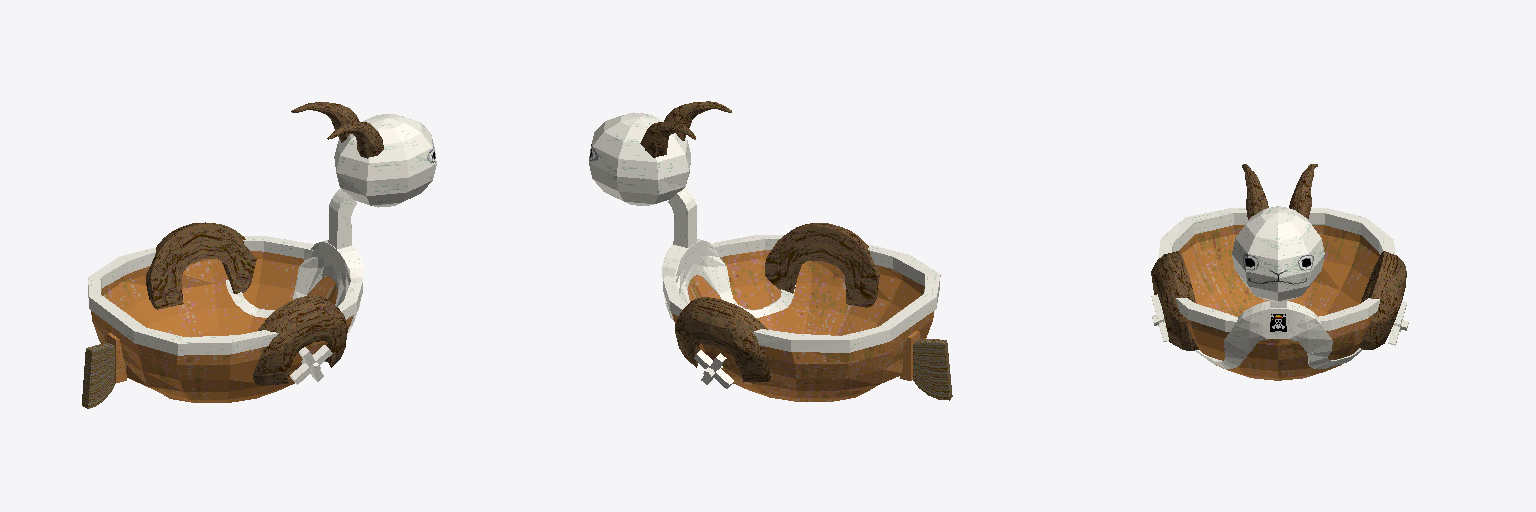
3 renders of one model, left to right at view 1: azimuth 30°, elevation 25°; view 2: azimuth 150°, elevation 25°; view 3: azimuth 270°, elevation 25°, orthographic.
Parts seen in each view (by area): view 1: Sphere.001, Sphere, Cube.003, Cylinder.011_Cylinder.013, Cube.004_Cube.005, Cube_Cube.001, Cube.001_Cube.002, Cylinder, Cylinder.013_Cylinder.015, Cone.001, Cone, Cylinder.012_Cylinder.014; view 2: Sphere.001, Sphere, Cube.004_Cube.005, Cylinder.011_Cylinder.013, Cube.003, Cube_Cube.001, Cube.001_Cube.002, Cylinder, Cone, Cylinder.012_Cylinder.014, Cone.001, Cylinder.013_Cylinder.015; view 3: Sphere.001, Sphere, Cube_Cube.001, Cylinder.011_Cylinder.013, Cube.003, Cube.004_Cube.005, Cylinder.012_Cylinder.014, Cylinder.013_Cylinder.015, Cone, Cone.001.
Part boxes in pixels (x1,y1,x2,y2): Sphere.001: (91,251,353,402); Sphere: (334,114,436,207); Cube.003: (146,222,256,309); Cylinder.011_Cylinder.013: (88,248,278,355); Cube.004_Cube.005: (253,295,347,385); Cube_Cube.001: (295,240,362,318); Cube.001_Cube.002: (82,343,115,408); Cylinder: (328,189,356,248); Cylinder.013_Cylinder.015: (243,236,313,259); Cone.001: (327,122,383,158); Cone: (291,102,359,142); Cylinder.012_Cylinder.014: (338,277,362,319); Sphere.001: (671,250,933,401); Sphere: (589,112,690,205); Cube.004_Cube.005: (765,223,879,307); Cylinder.011_Cylinder.013: (753,244,940,352); Cube.003: (675,297,770,381); Cube_Cube.001: (662,239,730,317); Cube.001_Cube.002: (913,339,952,400); Cylinder: (668,187,696,247); Cone: (640,122,695,157); Cylinder.012_Cylinder.014: (712,235,783,256); Cone.001: (664,101,731,140); Cylinder.013_Cylinder.015: (663,276,687,316); Sphere.001: (1179,225,1379,380); Sphere: (1232,206,1324,302); Cube_Cube.001: (1224,301,1332,353); Cylinder.011_Cylinder.013: (1158,208,1394,258); Cube.003: (1358,251,1406,349); Cube.004_Cube.005: (1151,251,1198,350); Cylinder.012_Cylinder.014: (1176,298,1237,331); Cylinder.013_Cylinder.015: (1318,298,1379,330); Cone: (1289,164,1317,218); Cone.001: (1242,164,1268,219).
Bounding box in the file's own units: 6.61 × 4.41 × 4.15.
1 materials, 1 textured.